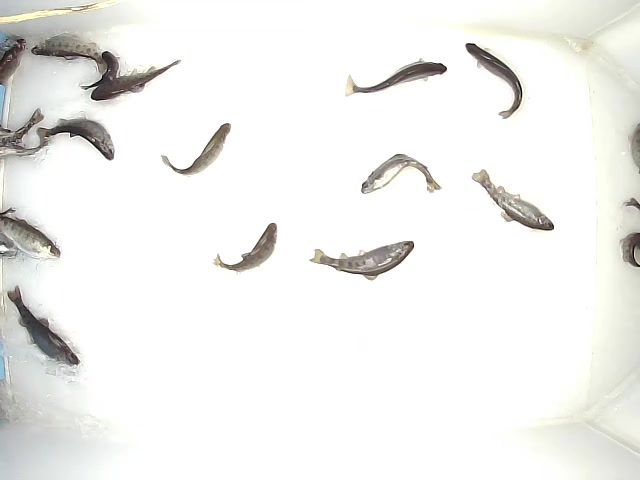fish: (7, 285, 82, 369), (471, 167, 555, 232), (463, 42, 524, 122), (308, 239, 415, 281), (343, 57, 449, 98), (160, 121, 233, 177), (90, 59, 180, 102), (36, 114, 115, 161), (360, 152, 443, 196), (31, 32, 110, 78), (212, 222, 278, 277), (80, 49, 120, 92)
